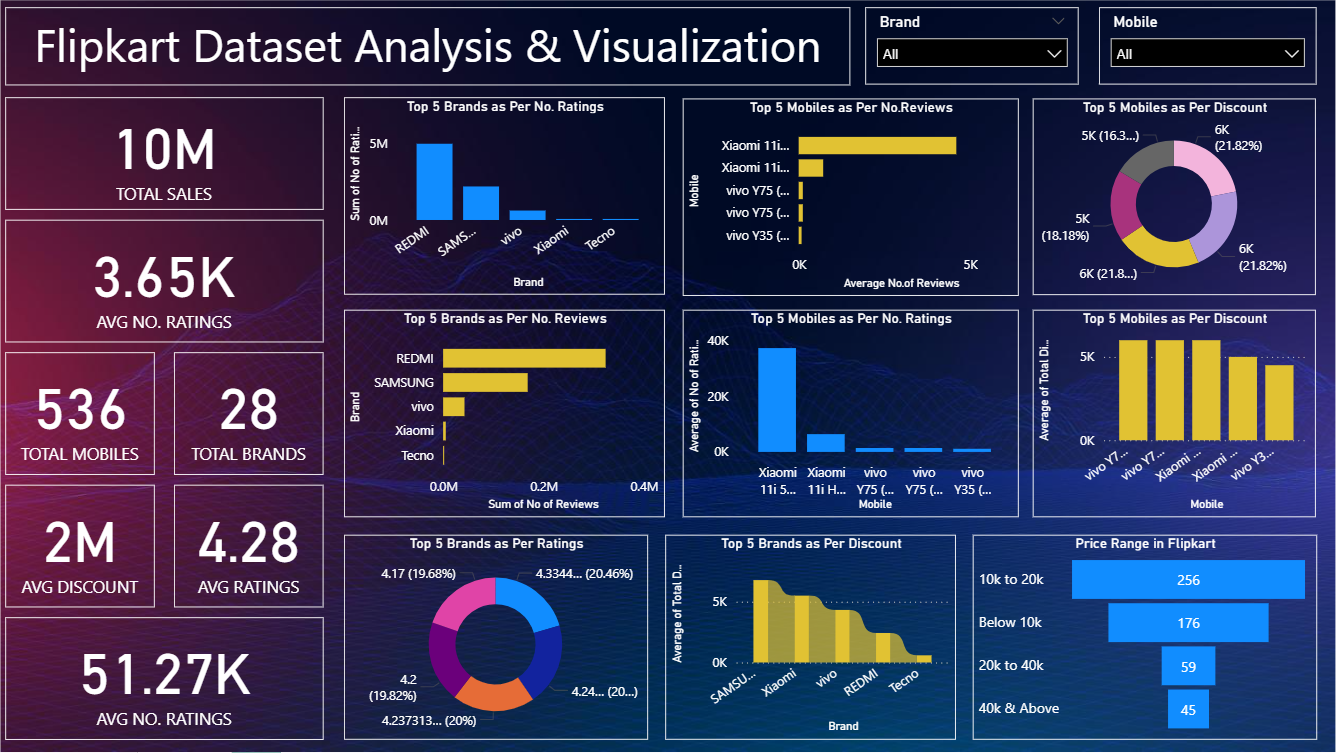

What the dashboard file says about the page in this screenshot:
{"tool":"powerbi","page":{"name":"Page 1","canvas":[1280,720],"ordinal":0},"visuals":[{"type":"textbox","box":[10.1,10.1,805.1,74.7],"z":0},{"type":"card","fields":{"Values":["Flipkart.Total Sales"]},"box":[11,96.1,303.3,107],"z":1000},{"type":"card","fields":{"Values":["Flipkart.Total Brands"]},"box":[171.5,338.9,142.7,116.6],"z":2000},{"type":"card","fields":{"Values":["Flipkart.Average No.of Reviews"]},"box":[11,212.7,303.3,116.6],"z":3000},{"type":"card","fields":{"Values":["Flipkart.Total Mobiles"]},"box":[11,338.9,142.7,116.6],"z":4000},{"type":"card","fields":{"Values":["Flipkart.Average of Ratings"]},"box":[171.5,465.2,142.7,116.6],"z":5000},{"type":"card","fields":{"Values":["Flipkart.Average No.of Ratings"]},"box":[11,591.4,303.3,116.6],"z":6000},{"type":"card","fields":{"Values":["Sum(Flipkart.Total Discount)"]},"box":[11,465.2,142.7,116.6],"z":8000},{"type":"columnChart","title":"Top 5 Brands as Per No. Ratings","fields":{"Category":["Flipkart.Brand"],"Y":["Sum(Flipkart.No of Ratings)"]},"box":[333.3,96.4,306,188.1],"z":9000},{"type":"barChart","title":"Top 5 Brands as Per No. Reviews","fields":{"Category":["Flipkart.Brand"],"Y":["Sum(Flipkart.No of Reviews)"]},"box":[333.3,298.8,306,197.6],"z":10000},{"type":"donutChart","title":"Top 5 Brands as Per Ratings","fields":{"Category":["Flipkart.Brand"],"Y":["Avg(Flipkart.Ratings)"]},"box":[333.3,513.1,289.3,195.2],"z":11000},{"type":"ribbonChart","title":"Top 5 Brands as Per Discount","fields":{"Category":["Flipkart.Brand"],"Y":["Avg(Flipkart.Total Discount)"]},"box":[639.5,513.2,277.2,194.9],"z":12000},{"type":"barChart","title":"Top 5 Mobiles as Per No.Reviews","fields":{"Category":["Flipkart.Mobile"],"Y":["Flipkart.Average No.of Reviews"]},"box":[655.9,97.4,319.7,188],"z":13000},{"type":"donutChart","title":"Top 5 Mobiles as Per Discount","fields":{"Category":["Flipkart.Mobile"],"Y":["Sum(Flipkart.Total Discount)"]},"box":[989.9,97.5,269.6,187.3],"z":14000},{"type":"funnel","title":"Price Range in Flipkart","fields":{"Category":["Flipkart.Price Range"],"Y":["CountNonNull(Flipkart.Brand)"]},"box":[931.6,512.7,327.8,194.9],"z":15000},{"type":"slicer","fields":{"Values":["Flipkart.Mobile"]},"box":[1052.4,10.7,207.1,73.8],"z":16000},{"type":"slicer","fields":{"Values":["Flipkart.Brand"]},"box":[829.8,10.7,203.6,73.8],"z":17000},{"type":"columnChart","title":"Top 5 Mobiles as Per Discount","fields":{"Y":["Avg(Flipkart.Total Discount)"],"Category":["Flipkart.Mobile"]},"box":[989.9,298.7,269.6,197.5],"z":18000},{"type":"columnChart","title":"Top 5 Mobiles as Per No. Ratings","fields":{"Y":["Avg(Flipkart.No of Ratings)"],"Category":["Flipkart.Mobile"]},"box":[655.9,299.1,319.7,197.6],"z":19000}]}

Visuals, with their boxes in screenshot pixels (x1, y1, x2, y2), scaled from the page's 1280x720 canvas onto the 1336x753 screenshot:
textbox: pyautogui.locateOnScreen(11, 11, 851, 89)
card - Flipkart.Total Sales: pyautogui.locateOnScreen(11, 101, 328, 212)
card - Flipkart.Total Brands: pyautogui.locateOnScreen(179, 354, 328, 476)
card - Flipkart.Average No.of Reviews: pyautogui.locateOnScreen(11, 222, 328, 344)
card - Flipkart.Total Mobiles: pyautogui.locateOnScreen(11, 354, 160, 476)
card - Flipkart.Average of Ratings: pyautogui.locateOnScreen(179, 487, 328, 608)
card - Flipkart.Average No.of Ratings: pyautogui.locateOnScreen(11, 619, 328, 740)
card - Sum(Flipkart.Total Discount): pyautogui.locateOnScreen(11, 487, 160, 608)
"Top 5 Brands as Per No. Ratings" columnChart: pyautogui.locateOnScreen(348, 101, 667, 298)
"Top 5 Brands as Per No. Reviews" barChart: pyautogui.locateOnScreen(348, 312, 667, 519)
"Top 5 Brands as Per Ratings" donutChart: pyautogui.locateOnScreen(348, 537, 650, 741)
"Top 5 Brands as Per Discount" ribbonChart: pyautogui.locateOnScreen(667, 537, 957, 741)
"Top 5 Mobiles as Per No.Reviews" barChart: pyautogui.locateOnScreen(685, 102, 1018, 298)
"Top 5 Mobiles as Per Discount" donutChart: pyautogui.locateOnScreen(1033, 102, 1315, 298)
"Price Range in Flipkart" funnel: pyautogui.locateOnScreen(972, 536, 1314, 740)
slicer - Flipkart.Mobile: pyautogui.locateOnScreen(1098, 11, 1315, 88)
slicer - Flipkart.Brand: pyautogui.locateOnScreen(866, 11, 1079, 88)
"Top 5 Mobiles as Per Discount" columnChart: pyautogui.locateOnScreen(1033, 312, 1315, 519)
"Top 5 Mobiles as Per No. Ratings" columnChart: pyautogui.locateOnScreen(685, 313, 1018, 519)
